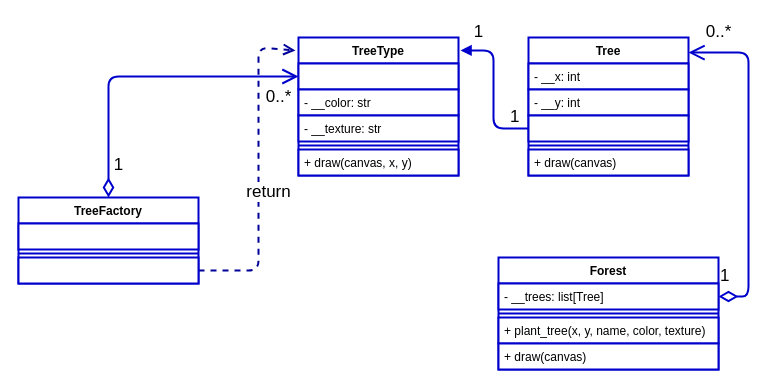
Some shapes in this 783 by 389 pixel diagram are drawn without their labels. Here are the shapes that lost their labels. From the top down, the centre of each, then its label:
point 378,76: - __name: str
point 608,128: - __tree_type: TreeType
point 108,236: - __tree_types: list[TreeType]
point 108,270: + get_tree_type(): TreeType
